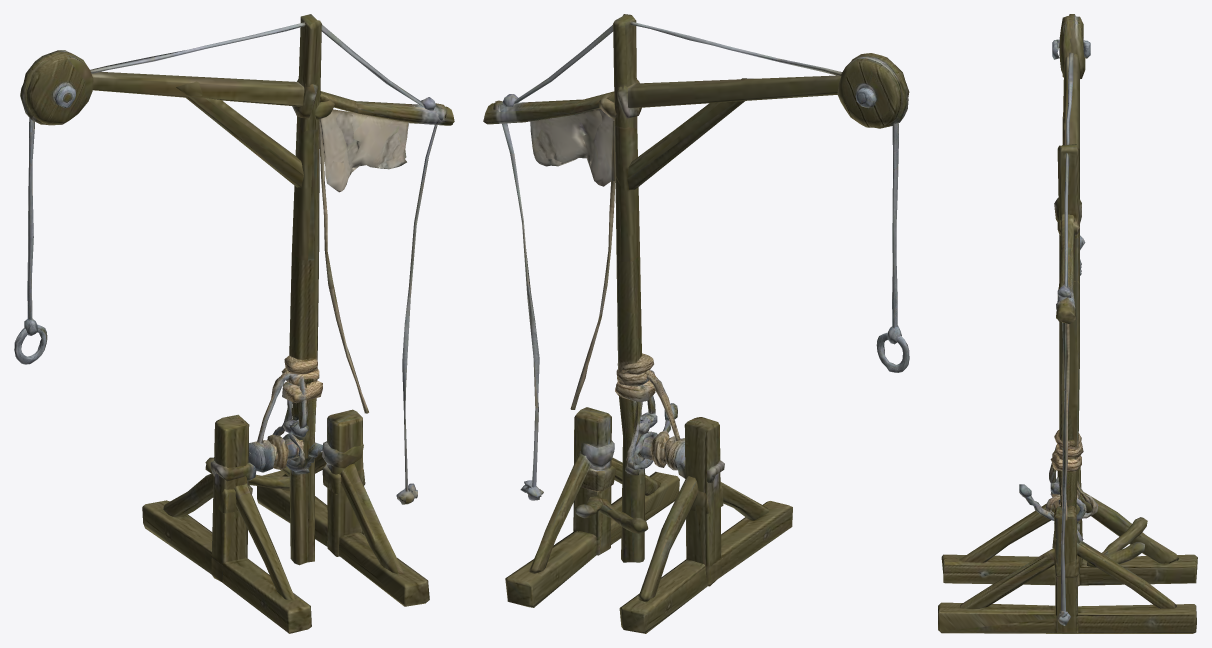
File: av_guindaste.glb
3 views of the same model, side by side, from view 1: azimuth 30°, elevation 25°; view 2: azimuth 150°, elevation 25°; view 3: azimuth 270°, elevation 25° (orthographic). The views are drawn at different scales.
Visible parts, largest first — view 1: Mesh_0.009; view 2: Mesh_0.009; view 3: Mesh_0.009.
Boxes of the visible parts, x1,y1,x2,y2 form: Mesh_0.009: [14, 14, 454, 633]; Mesh_0.009: [483, 14, 909, 633]; Mesh_0.009: [938, 14, 1197, 633].
Size of the model in its own units: 0.4823 by 0.6115 by 0.293.
Materials: 1 (1 with a texture image).
